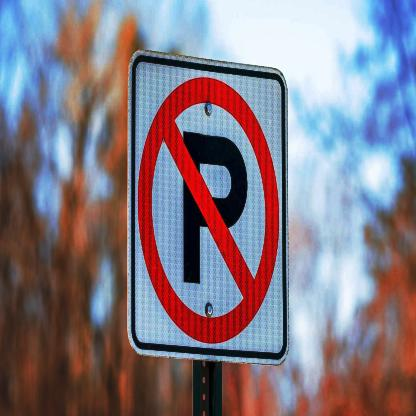No parking: (136, 72, 282, 347)
